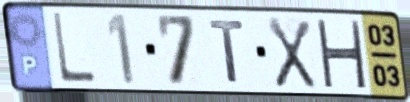1: (105, 11, 137, 88)
7: (155, 12, 200, 89)
H: (313, 17, 369, 91)
L: (50, 10, 98, 86)
T: (207, 18, 248, 86)
X: (264, 15, 318, 91)
